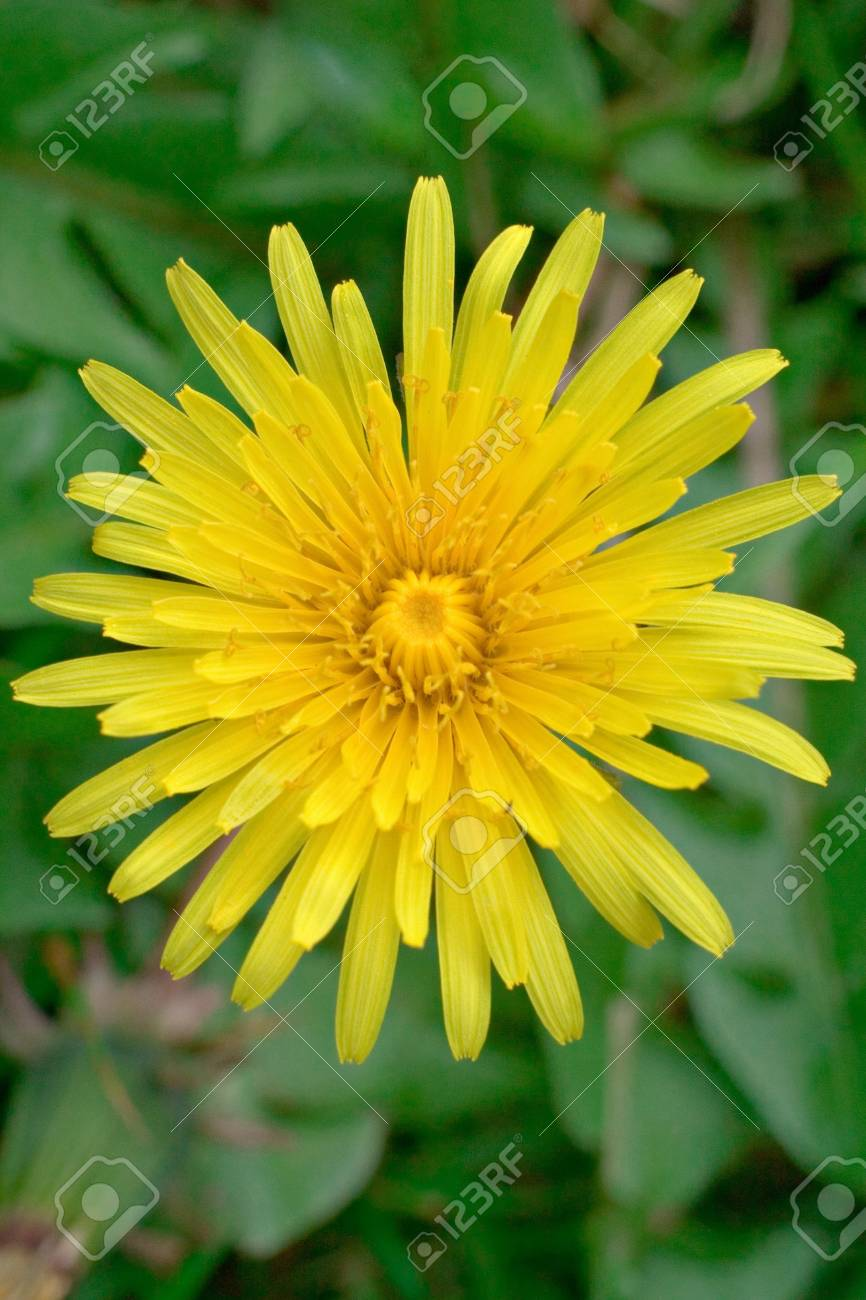dandelion: (66, 270, 847, 1055)
